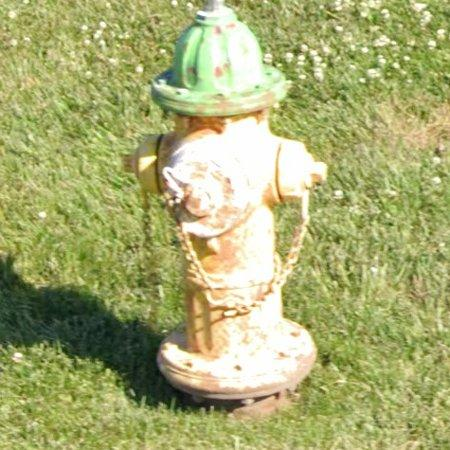a fire hydrant: (130, 0, 328, 401)
